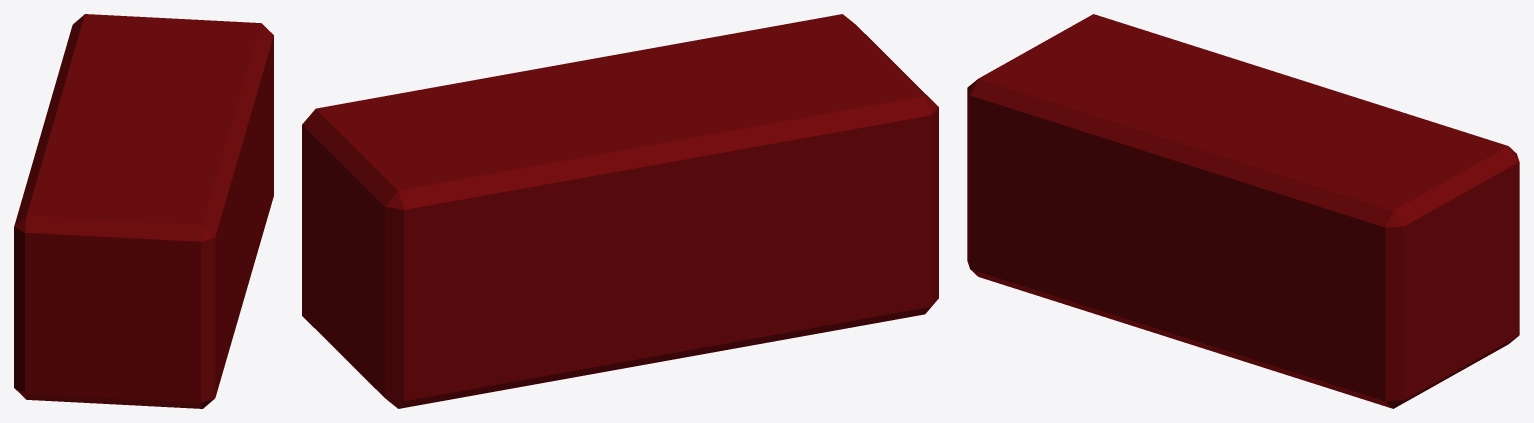
Rendered from ContainerV3.fbx.
3 views of the same model, side by side, from view 1: azimuth 30°, elevation 25°; view 2: azimuth 150°, elevation 25°; view 3: azimuth 270°, elevation 25° (orthographic). The views are drawn at different scales.
Visible parts, largest first — view 1: Cube.583; view 2: Cube.583; view 3: Cube.583.
Part boxes in pixels (box(x1,y1,x2,y2)): Cube.583: box(14, 14, 273, 408); Cube.583: box(302, 14, 938, 408); Cube.583: box(967, 14, 1519, 408).
Bounding box in the file's own units: 891 × 400 × 1010.
